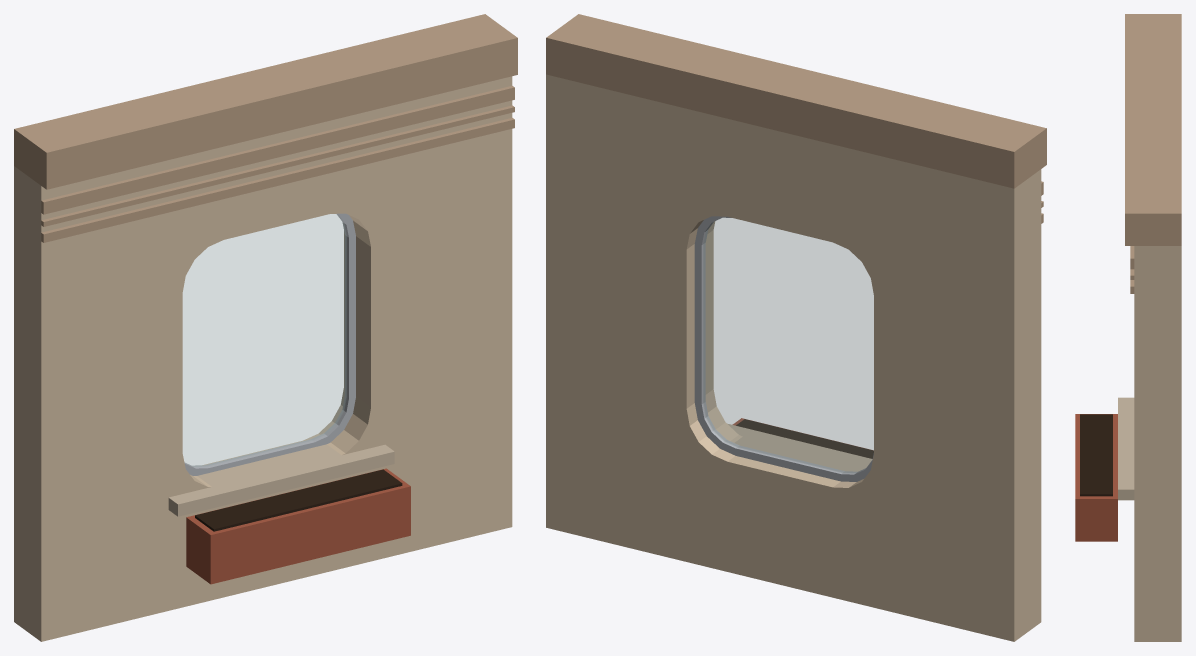
The model's file is city_facade_window.glb.
3 views of the same model, side by side, from view 1: azimuth 30°, elevation 25°; view 2: azimuth 150°, elevation 25°; view 3: azimuth 270°, elevation 25° (orthographic). The views are drawn at different scales.
Parts seen in each view (by area): view 1: CityFacadeWindow_Wall, CityFacadeWindow_Glass, CityFacadeWindow_Band, CityFacadeWindow_Planter, CityFacadeWindow_Strata2, CityFacadeWindow_Sill, CityFacadeWindow_Strata0, CityFacadeWindow_PlanterSoil, CityFacadeWindow_Frame, CityFacadeWindow_Strata1; view 2: CityFacadeWindow_Wall, CityFacadeWindow_Glass, CityFacadeWindow_Band, CityFacadeWindow_Frame, CityFacadeWindow_Sill, CityFacadeWindow_PlanterSoil; view 3: CityFacadeWindow_Wall, CityFacadeWindow_Band, CityFacadeWindow_Planter, CityFacadeWindow_PlanterSoil, CityFacadeWindow_Sill.
Part boxes in pixels (left/top/right/bottom): CityFacadeWindow_Wall: left=14, top=76, right=512, bottom=641; CityFacadeWindow_Glass: left=183, top=214, right=346, bottom=466; CityFacadeWindow_Band: left=14, top=14, right=517, bottom=189; CityFacadeWindow_Planter: left=186, top=468, right=410, bottom=584; CityFacadeWindow_Strata2: left=41, top=85, right=514, bottom=214; CityFacadeWindow_Sill: left=168, top=444, right=394, bottom=516; CityFacadeWindow_Strata0: left=41, top=117, right=514, bottom=242; CityFacadeWindow_PlanterSoil: left=195, top=469, right=402, bottom=531; CityFacadeWindow_Frame: left=184, top=213, right=355, bottom=475; CityFacadeWindow_Strata1: left=41, top=105, right=514, bottom=226; CityFacadeWindow_Wall: left=546, top=74, right=1041, bottom=641; CityFacadeWindow_Glass: left=703, top=218, right=873, bottom=472; CityFacadeWindow_Band: left=546, top=14, right=1046, bottom=188; CityFacadeWindow_Frame: left=694, top=216, right=873, bottom=481; CityFacadeWindow_Sill: left=728, top=424, right=872, bottom=471; CityFacadeWindow_PlanterSoil: left=736, top=419, right=873, bottom=458; CityFacadeWindow_Wall: left=1134, top=246, right=1181, bottom=641; CityFacadeWindow_Band: left=1125, top=14, right=1181, bottom=245; CityFacadeWindow_Planter: left=1075, top=414, right=1117, bottom=541; CityFacadeWindow_PlanterSoil: left=1080, top=414, right=1112, bottom=496; CityFacadeWindow_Sill: left=1118, top=397, right=1134, bottom=500.
Bounding box in the file's own units: 4 × 4 × 0.9.
